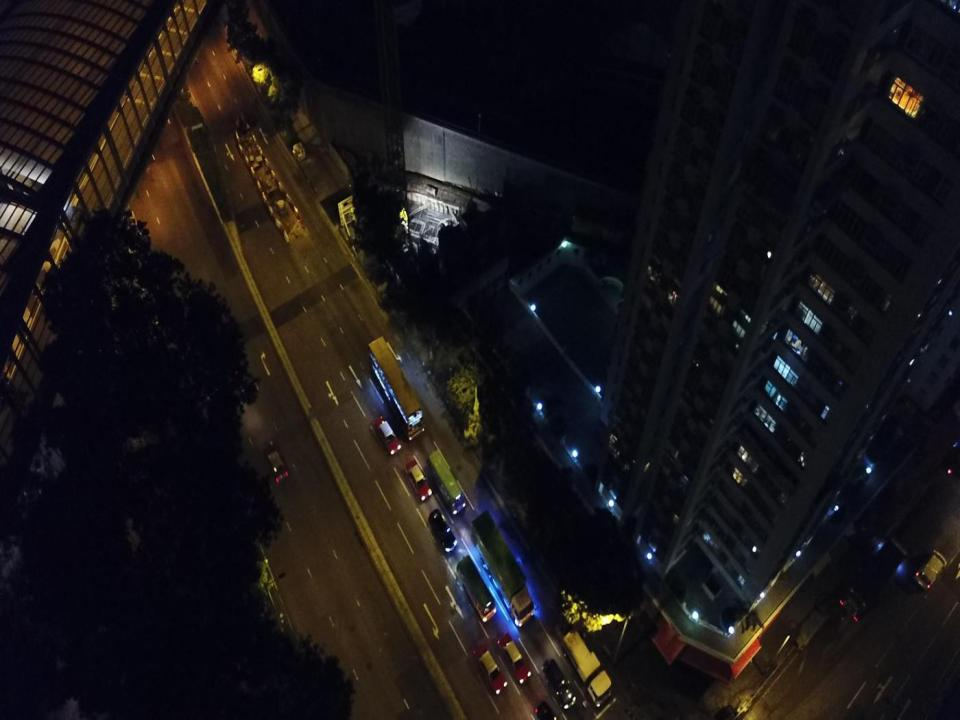bus: (367, 336, 426, 441), (456, 555, 497, 622), (426, 448, 466, 514)
car: (496, 632, 532, 684), (473, 642, 508, 694), (542, 659, 575, 710), (427, 508, 458, 552), (403, 458, 433, 502), (372, 415, 402, 456), (262, 441, 290, 484)
truck: (470, 510, 535, 627), (839, 535, 908, 622), (554, 614, 612, 709), (913, 520, 960, 591)
